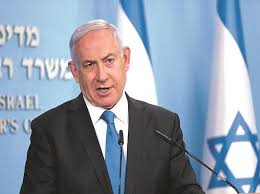No-Glasses: (80, 53, 121, 70)
